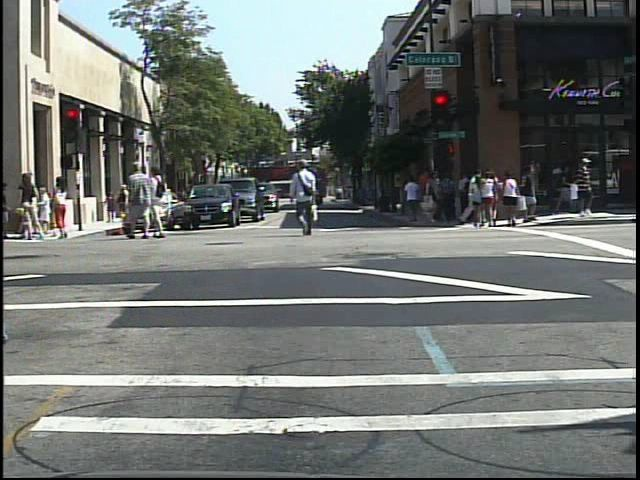person: (289, 154, 323, 241), (124, 159, 155, 242), (568, 154, 602, 219), (18, 169, 45, 246), (150, 162, 171, 238), (50, 174, 73, 240), (469, 173, 487, 232)
